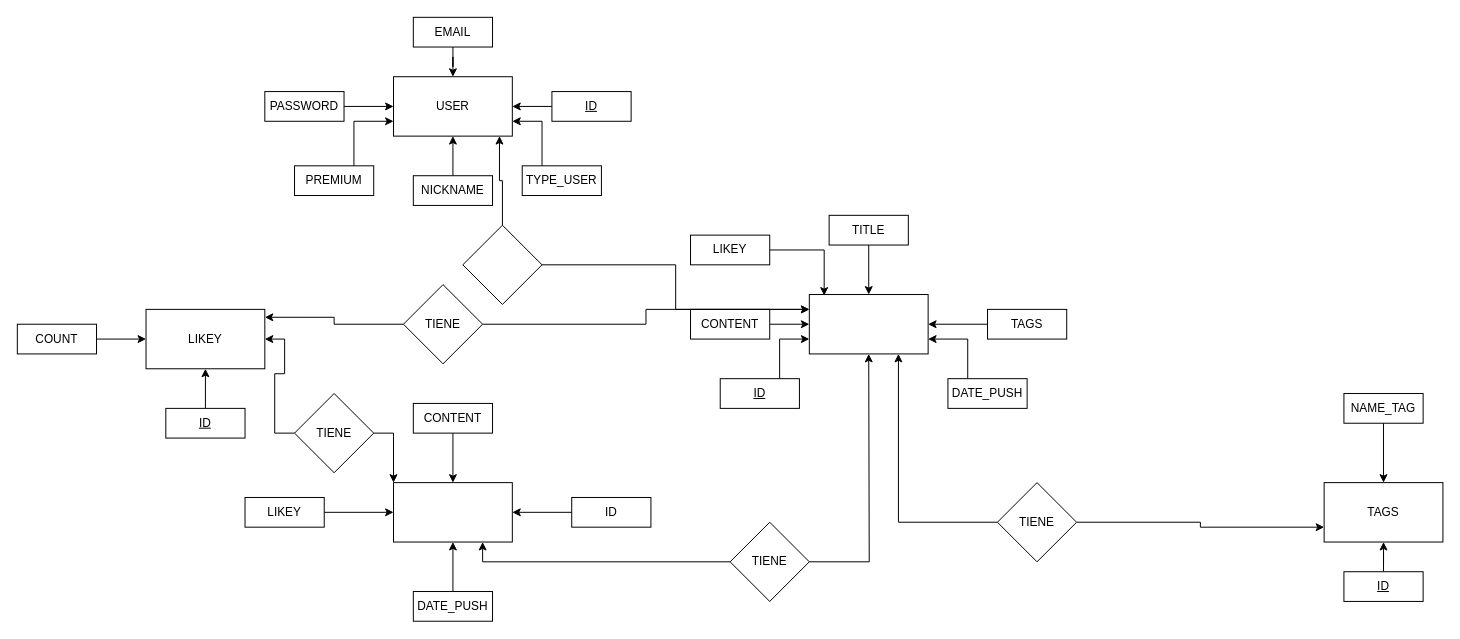
Some shapes in this 1460 by 639 pixel diagram are drawn without their labels. Here are the shapes that lost their labels. From the top down, the centre of each, then its label:
point 502,264: WRITE
point 868,324: NEWS
point 452,512: COMENTS
